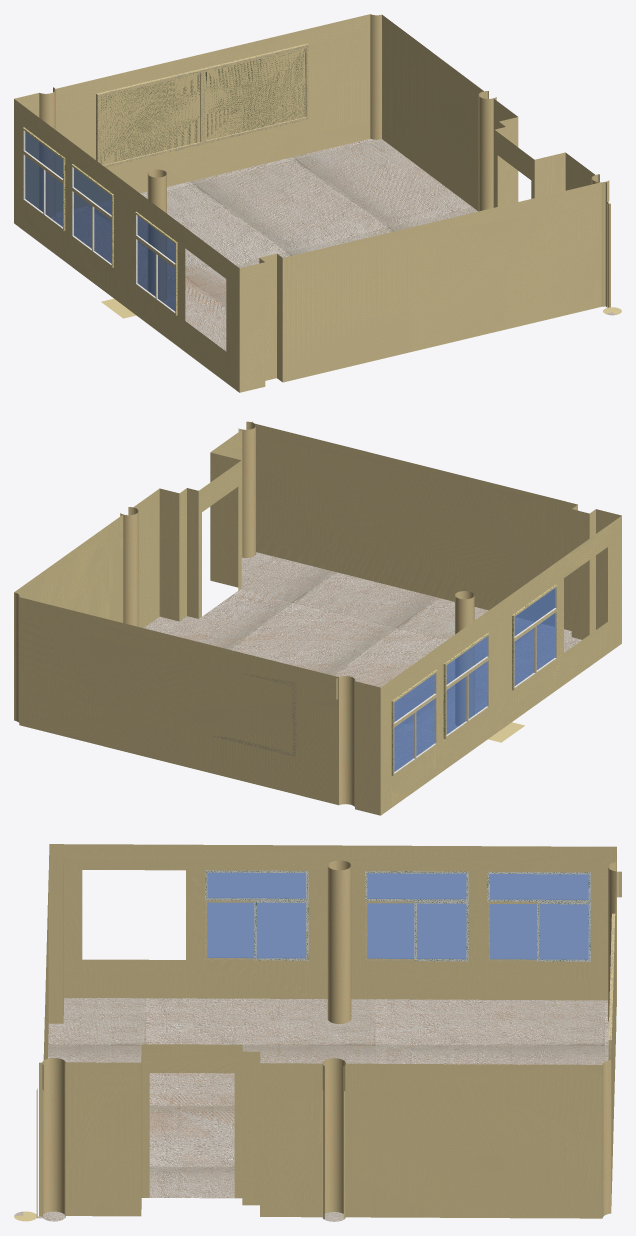
The model's file is AUL020.obj.
3 renders of one model, top to bottom at view 1: azimuth 30°, elevation 25°; view 2: azimuth 150°, elevation 25°; view 3: azimuth 270°, elevation 25°, orthographic. The views are drawn at different scales.
Visible parts, largest first — view 1: Mesh27 AUL020 Model, Mesh19 pizarra1 AUL020 Model, Mesh23 pizarra2 AUL020 Model, Mesh1 ventana1_1_1 AUL020 Model, Mesh13 ventana1_1_3 AUL020 Model, Mesh7 ventana1_1_2 AUL020 Model; view 2: Mesh27 AUL020 Model, Mesh7 ventana1_1_2 AUL020 Model, Mesh1 ventana1_1_1 AUL020 Model, Mesh13 ventana1_1_3 AUL020 Model, Mesh19 pizarra1 AUL020 Model; view 3: Mesh27 AUL020 Model, Mesh13 ventana1_1_3 AUL020 Model, Mesh7 ventana1_1_2 AUL020 Model, Mesh1 ventana1_1_1 AUL020 Model.
Part boxes in pixels (x1,y1,x2,y2): Mesh27 AUL020 Model: (14, 14, 621, 392); Mesh19 pizarra1 AUL020 Model: (96, 68, 202, 167); Mesh23 pizarra2 AUL020 Model: (202, 43, 308, 144); Mesh1 ventana1_1_1 AUL020 Model: (22, 127, 65, 230); Mesh13 ventana1_1_3 AUL020 Model: (135, 211, 177, 315); Mesh7 ventana1_1_2 AUL020 Model: (71, 164, 113, 267); Mesh27 AUL020 Model: (14, 421, 621, 815); Mesh7 ventana1_1_2 AUL020 Model: (443, 632, 489, 738); Mesh1 ventana1_1_1 AUL020 Model: (391, 670, 437, 776); Mesh13 ventana1_1_3 AUL020 Model: (512, 584, 557, 690); Mesh19 pizarra1 AUL020 Model: (209, 671, 296, 756); Mesh27 AUL020 Model: (14, 844, 621, 1221); Mesh13 ventana1_1_3 AUL020 Model: (205, 870, 308, 960); Mesh7 ventana1_1_2 AUL020 Model: (365, 871, 468, 961); Mesh1 ventana1_1_1 AUL020 Model: (487, 871, 590, 961).
Size of the model in its own units: 11.6 by 3.6 by 12.91.
11 materials, 3 textured.
